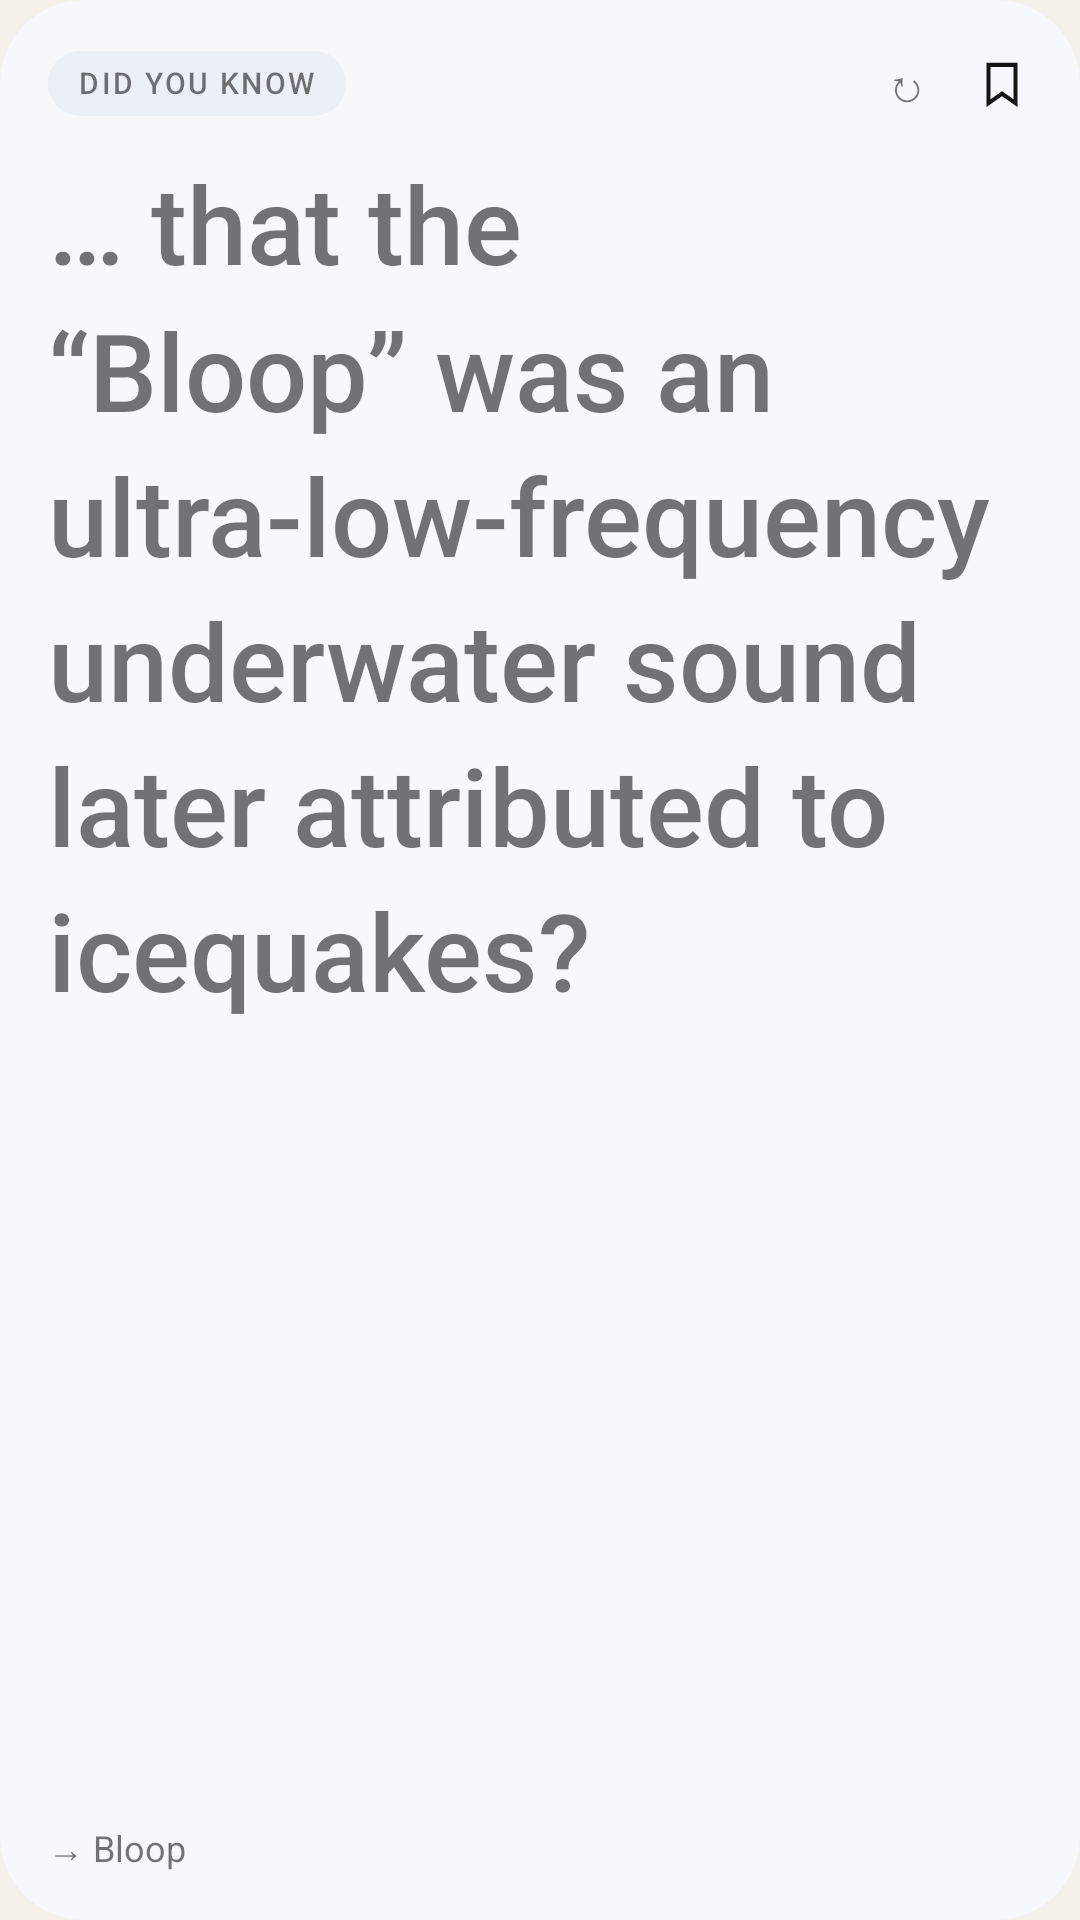

Where to tap for icons on this 1080px x 1920px app screen, as (x=x, y=y):
Save or unsave: (x=1002, y=84)
